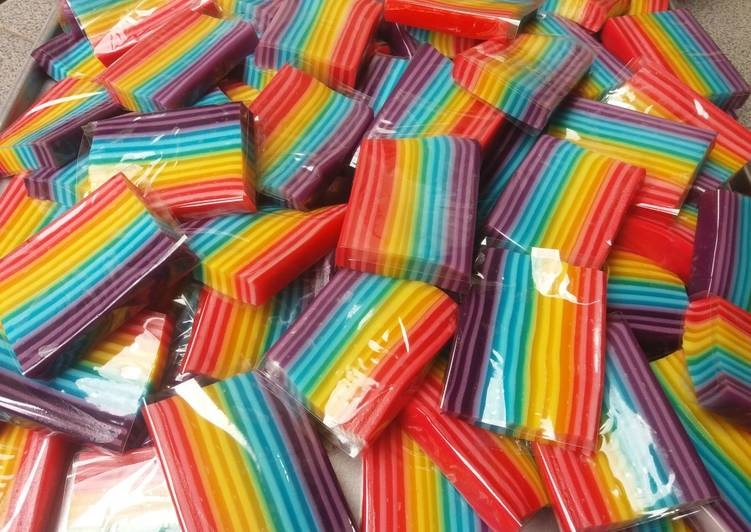kue_lapis_pelangi: (258, 253, 454, 459), (9, 172, 195, 374), (442, 248, 610, 452), (137, 380, 356, 532), (483, 127, 645, 267), (333, 135, 477, 289)
